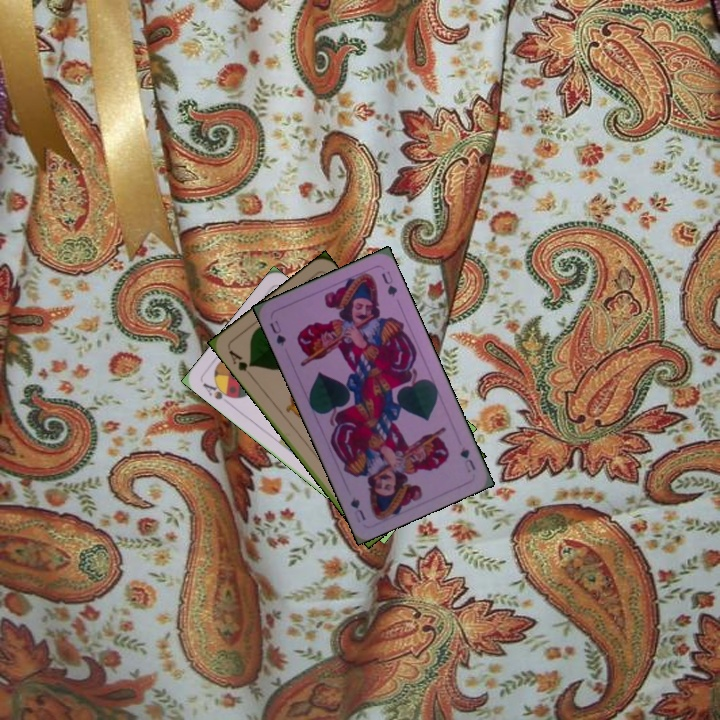GA: (225, 346, 255, 379)
GU: (266, 316, 289, 349), (456, 443, 478, 476)
SA: (198, 378, 237, 402)
